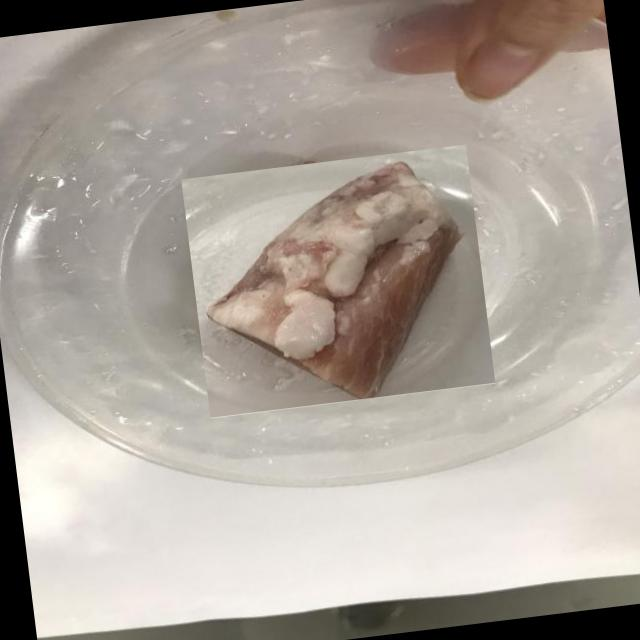chicken: (180, 144, 496, 418)
